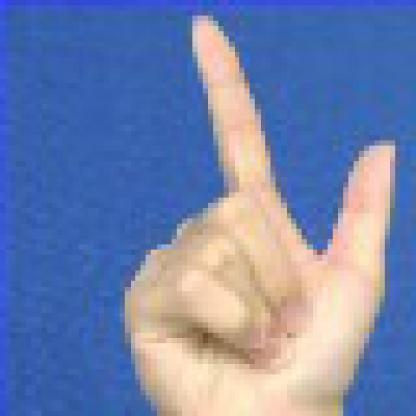seven: (99, 0, 411, 411)
